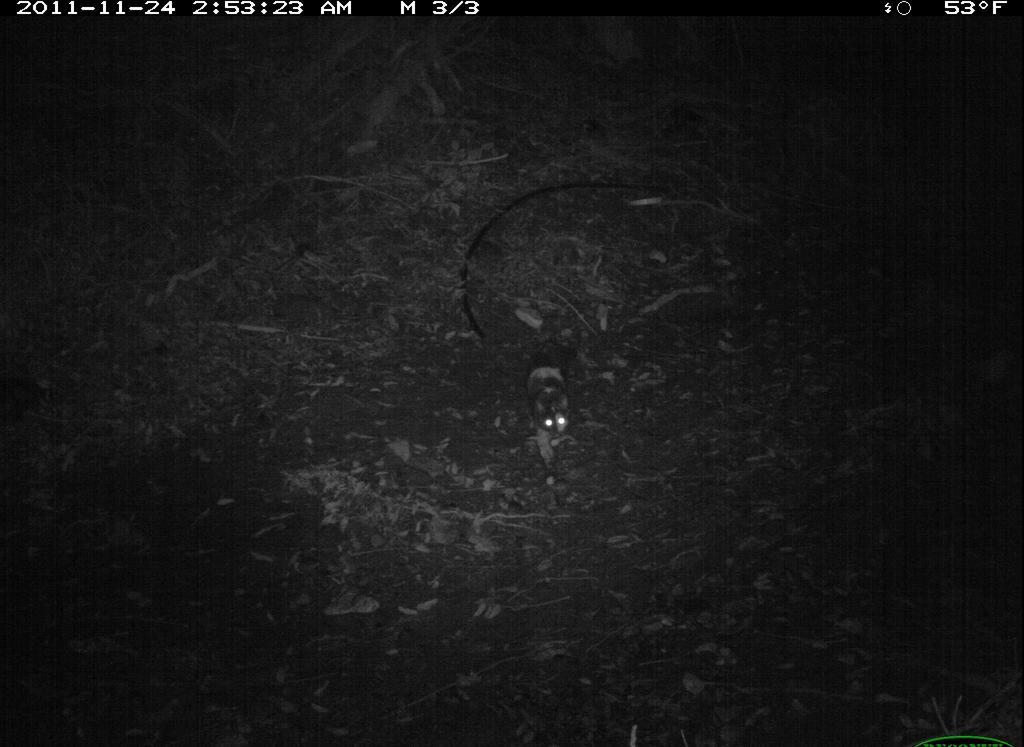cat: (523, 314, 584, 491)
